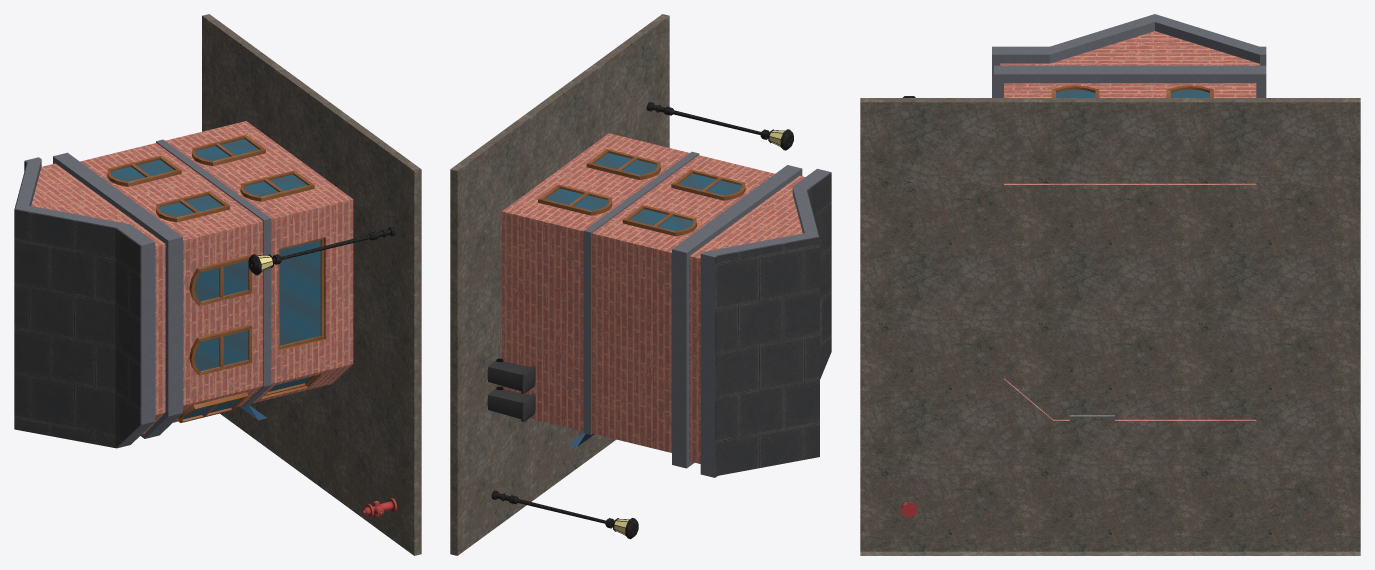
The model's file is shop01.fbx.
3 views of the same model, side by side, from view 1: azimuth 30°, elevation 25°; view 2: azimuth 150°, elevation 25°; view 3: azimuth 270°, elevation 25° (orthographic). The views are drawn at different scales.
Parts seen in each view (by area): view 1: fun_shop01; view 2: fun_shop01; view 3: fun_shop01.
Boxes of the visible parts, left/top/right/bottom form: fun_shop01: left=14, top=14, right=421, bottom=555; fun_shop01: left=450, top=14, right=831, bottom=555; fun_shop01: left=860, top=14, right=1360, bottom=555.
Size of the model in its own units: 10 by 10 by 7.68.
8 materials, 8 textured.
